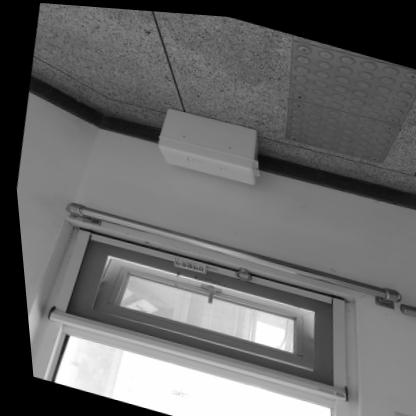DDL: (148, 100, 267, 186)
